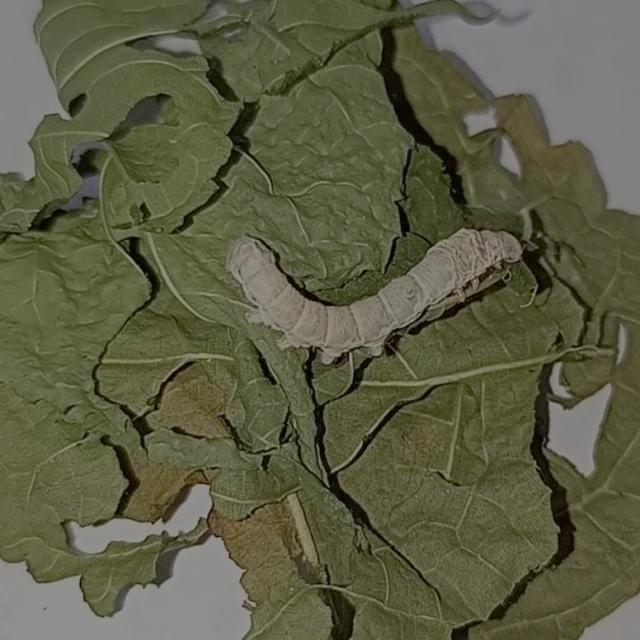Healthy: (208, 160, 581, 387)
